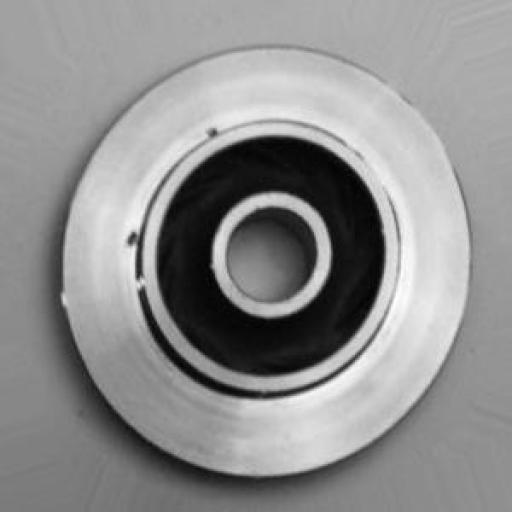defect: (118, 105, 224, 275)
